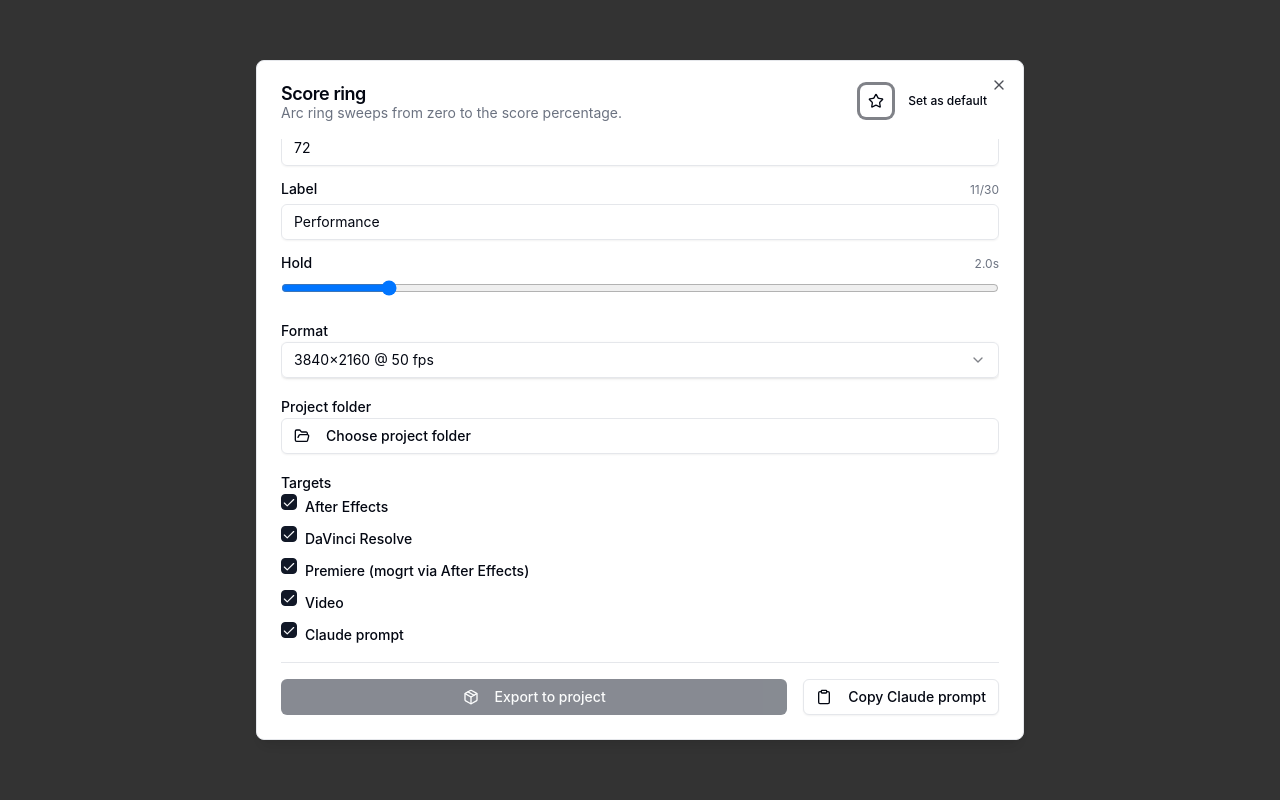
Scenario: MotionTemplateDialog › Project folder › picks a folder, shows the path, shows a warning for a non-Bucket folder, and enables Export
This screenshot has width=1280, height=800.
(page scrolled)
Expected: the button "Export to project" is disabled, 281,679 -> 787,715
Click the button "Choose project folder" at (398, 435), box 281,418 -> 999,454
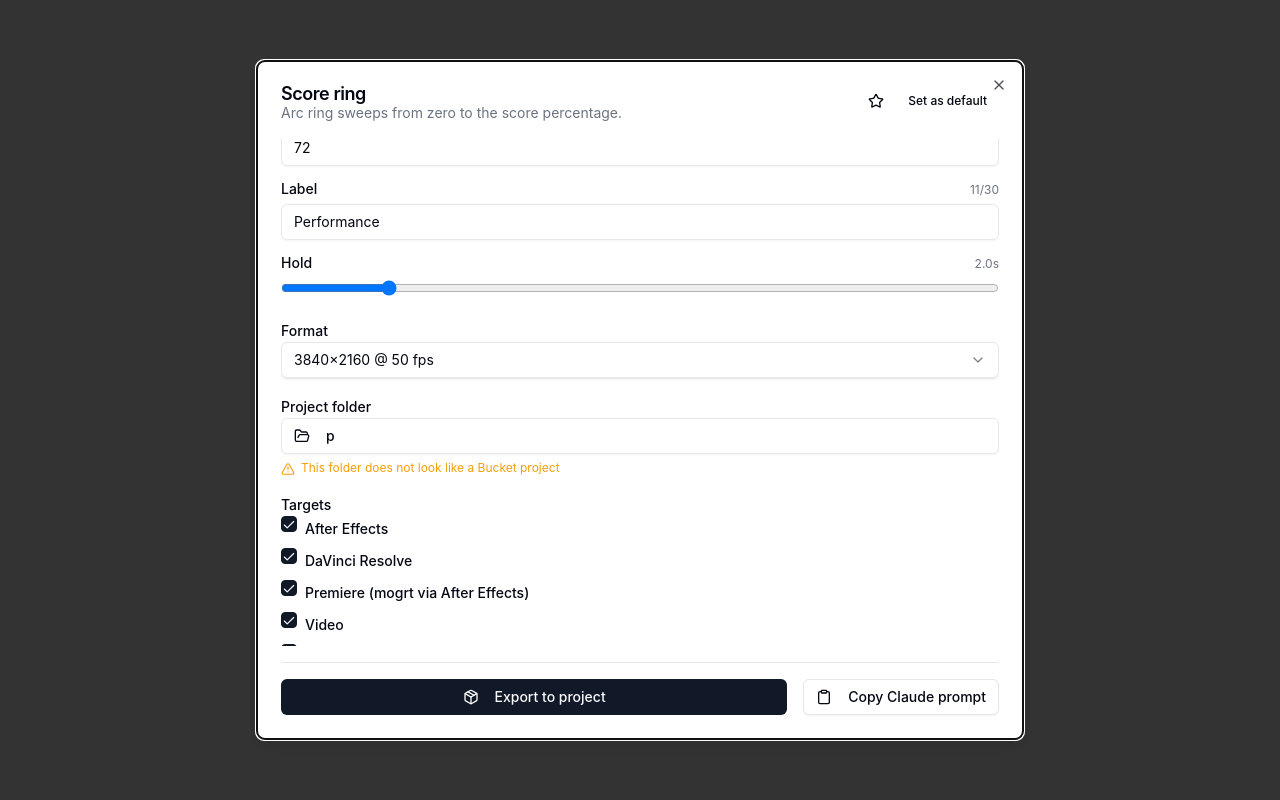
Expected: the text "p" is shown, 326,426 -> 335,446
Expected: the text "This folder does not look like a Bucket project" is shown, 301,460 -> 560,476
Expected: the button "Export to project" is enabled, 281,679 -> 787,715
